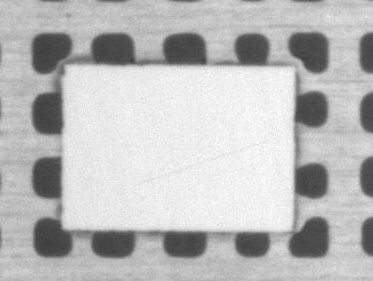DIE_CRACK: (178, 106, 353, 139)
